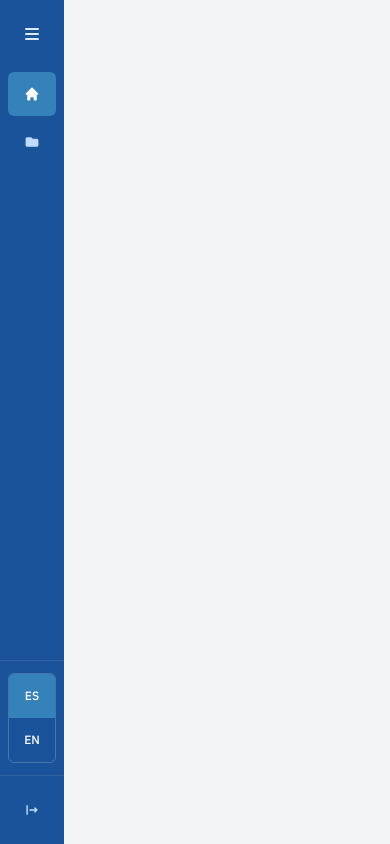
Test case: Sidebar desplegado sobre la página › un clic en el fondo oscurecido lo cierra
Click the button named "Abrir el menú": (32, 34) [8,12,56,56]
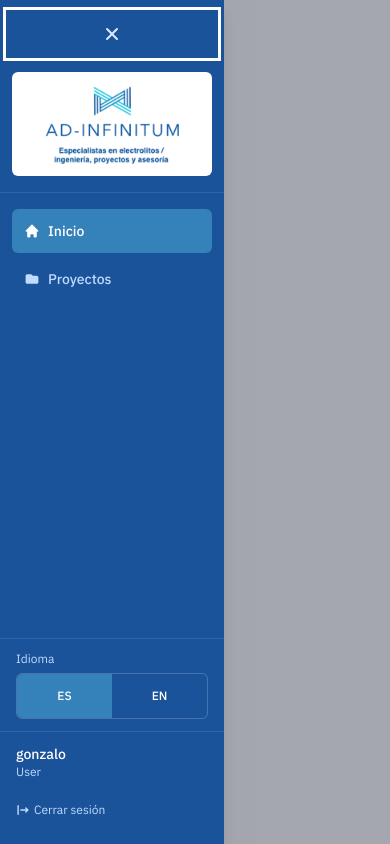
Check: the 1st element with class "fixed" is shown
Click the 1st element with class "fixed": (367, 422) [0,0,389,843]
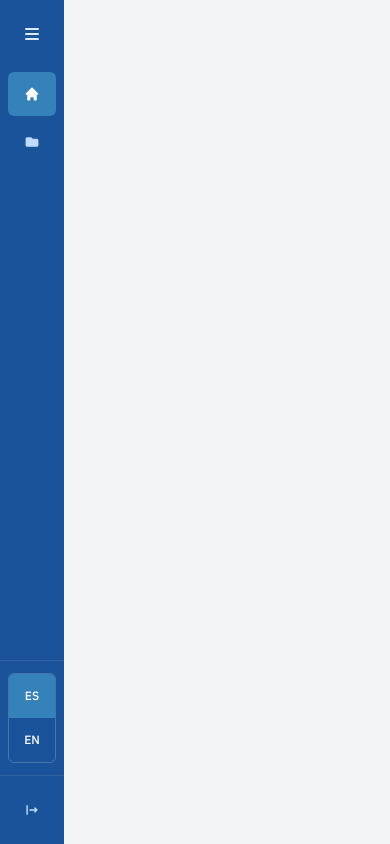
Check: the button named "Abrir el menú" is collapsed, box [8,12,56,56]
